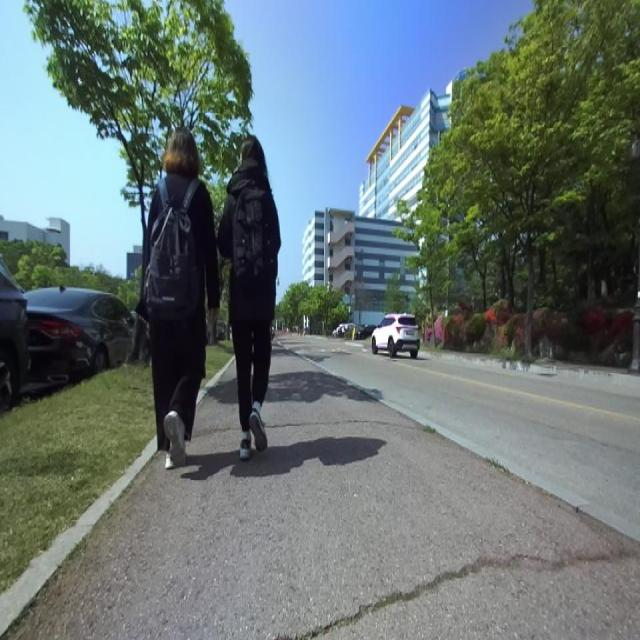sidewalk: (6, 346, 640, 639), (274, 338, 640, 542), (0, 437, 156, 637), (196, 356, 234, 403)
